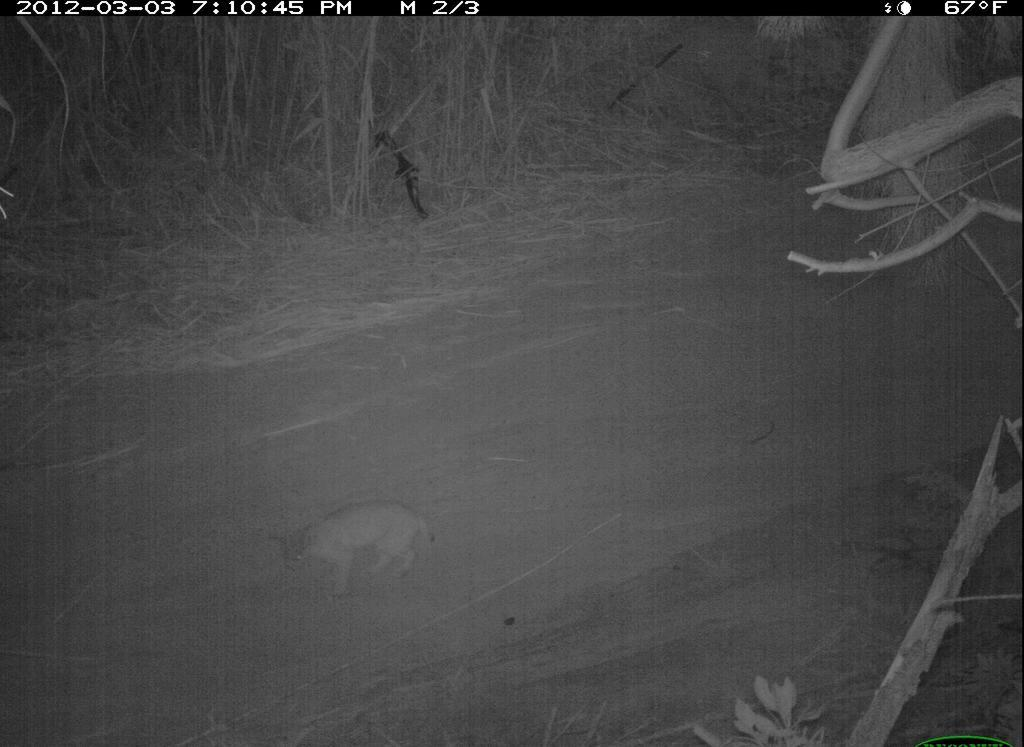bobcat: (259, 487, 445, 607)
